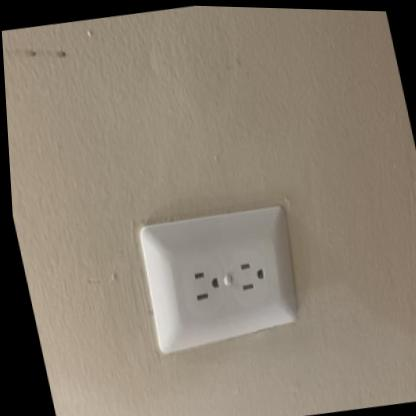OUTLET: (126, 193, 313, 360)
